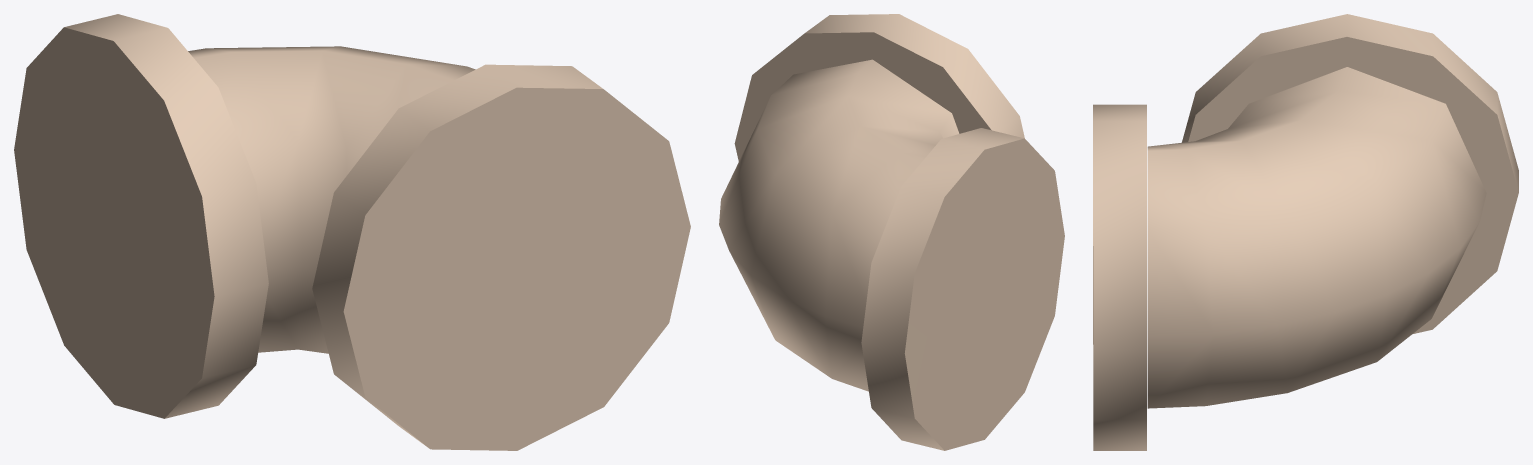
The model's file is pipe02_90degree01.fbx.
The picture shows the model from 3 angles, left to right: view 1: azimuth 30°, elevation 25°; view 2: azimuth 150°, elevation 25°; view 3: azimuth 270°, elevation 25°; orthographic projection. The views are drawn at different scales.
Visible parts, largest first — view 1: pipe02_90degree01_reference; view 2: pipe02_90degree01_reference; view 3: pipe02_90degree01_reference.
Part boxes in pixels (x1,y1,x2,y2): pipe02_90degree01_reference: (14,14,690,450); pipe02_90degree01_reference: (719,14,1064,450); pipe02_90degree01_reference: (1093,14,1518,450).
Bounding box in the file's own units: 1449 × 1174 × 1448.
